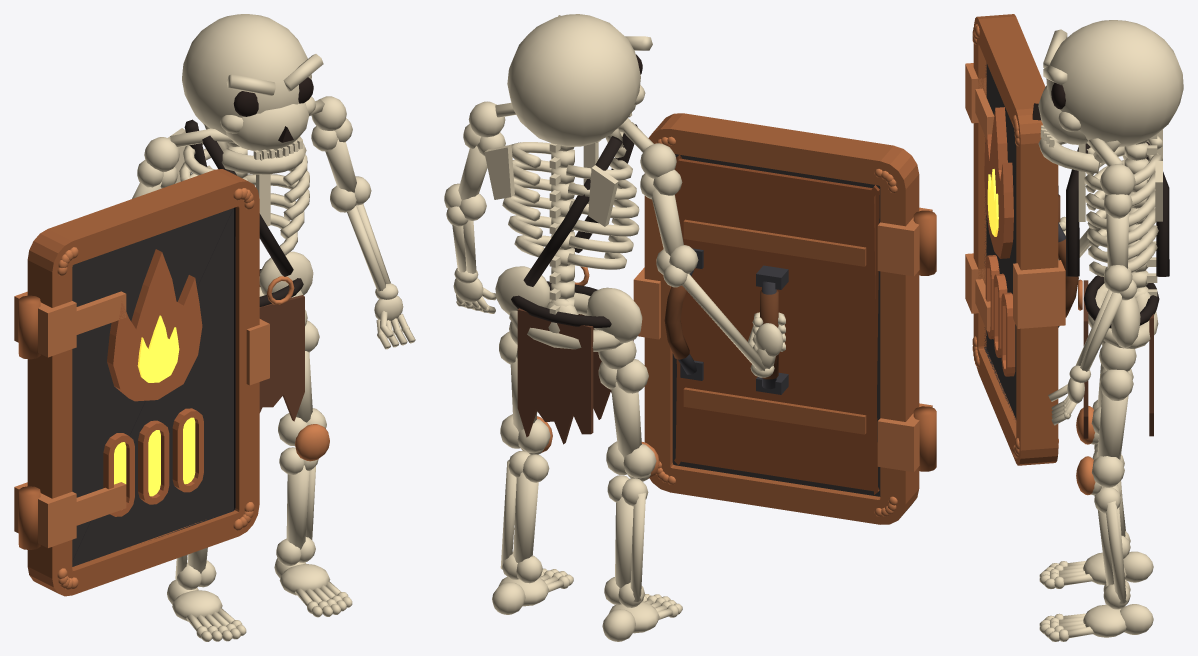
Rendered from cinderkeep_guardian.glb.
The picture shows the model from 3 angles, left to right: view 1: azimuth 30°, elevation 25°; view 2: azimuth 150°, elevation 25°; view 3: azimuth 270°, elevation 25°; orthographic projection. The views are drawn at different scales.
Visible parts, largest first — view 1: Shield, Head, Torso, RightLeg, RightArm, LeftLeg, LeftArm; view 2: Shield, Torso, Head, LeftLeg, RightLeg, LeftArm, RightArm; view 3: Shield, Head, Torso, RightLeg, RightArm, LeftLeg, LeftArm.
Boxes of the visible parts, box(x1,y1,x2,y2) form: Shield: box(14, 169, 269, 596); Head: box(182, 14, 323, 174); Torso: box(168, 99, 324, 421); RightLeg: box(274, 310, 352, 617); RightArm: box(311, 96, 415, 349); LeftLeg: box(167, 547, 246, 641); LeftArm: box(132, 137, 179, 198); Shield: box(633, 113, 936, 524); Torso: box(484, 103, 653, 444); Head: box(507, 14, 652, 158); LeftLeg: box(598, 340, 682, 641); RightLeg: box(492, 321, 573, 614); LeftArm: box(640, 143, 785, 377); RightArm: box(444, 101, 505, 313); Shield: box(965, 14, 1078, 465); Head: box(1032, 20, 1183, 173); Torso: box(1066, 129, 1169, 438); RightLeg: box(1039, 342, 1153, 641); RightArm: box(1048, 164, 1137, 425); LeftLeg: box(1039, 340, 1153, 588); LeftArm: box(1058, 155, 1126, 260).
Bounding box in the file's own units: 1.21 × 1.57 × 0.5358.
